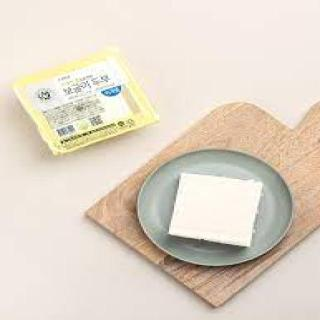Tahu: (163, 170, 279, 258)
